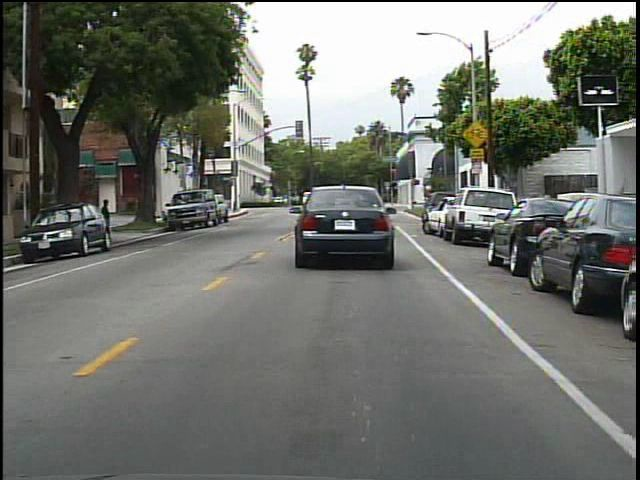person: (97, 194, 117, 244)
